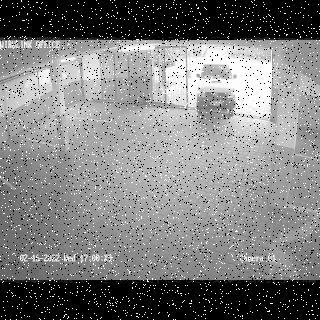car: (193, 59, 237, 116)
